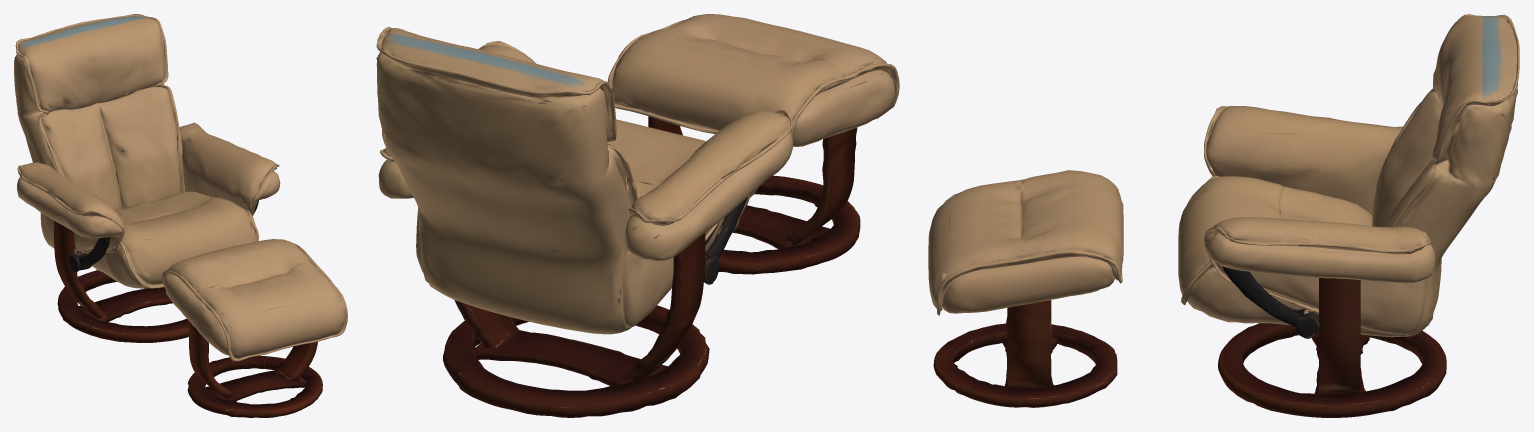
The model's file is recliner-thomasville.glb.
The picture shows the model from 3 angles, left to right: view 1: azimuth 30°, elevation 25°; view 2: azimuth 150°, elevation 25°; view 3: azimuth 270°, elevation 25°; orthographic projection. The views are drawn at different scales.
Bounding box in the file's own units: 0.5044 × 0.5693 × 0.9512.
Materials: 1 (1 with a texture image).
